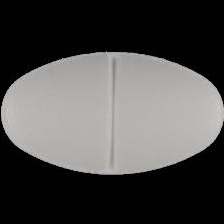0615-2503: (0, 0, 224, 224)
